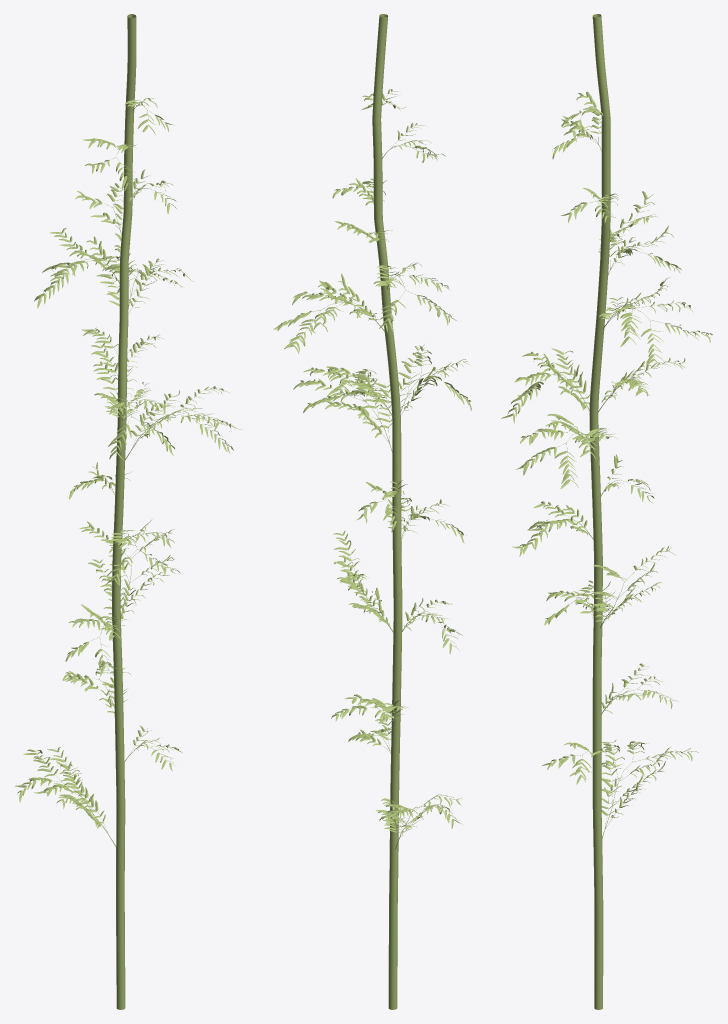
The model's file is bamboo.glb.
3 views of the same model, side by side, from view 1: azimuth 30°, elevation 25°; view 2: azimuth 150°, elevation 25°; view 3: azimuth 270°, elevation 25° (orthographic).
Parts seen in each view (by area): view 1: bamboo_002_exp_002_culm_001, bamboo_002_exp_001_leaf_002_001 (×2), bamboo_002_exp_001_leaf_001_001, bamboo_002_exp_001_branch_001; view 2: bamboo_002_exp_002_culm_001, bamboo_002_exp_001_leaf_002_001 (×2), bamboo_002_exp_001_leaf_001_001, bamboo_002_exp_001_branch_001; view 3: bamboo_002_exp_002_culm_001, bamboo_002_exp_001_leaf_002_001 (×2), bamboo_002_exp_001_leaf_001_001, bamboo_002_exp_001_branch_001.
Part boxes in pixels (x1,y1,x2,y2): bamboo_002_exp_002_culm_001: (112,14,136,1009); bamboo_002_exp_001_leaf_002_001 (×2): (21,98,242,828); bamboo_002_exp_001_leaf_001_001: (15,100,230,824); bamboo_002_exp_001_branch_001: (27,101,226,847); bamboo_002_exp_002_culm_001: (372,14,402,1009); bamboo_002_exp_001_leaf_002_001 (×2): (273,89,471,832); bamboo_002_exp_001_leaf_001_001: (277,91,470,835); bamboo_002_exp_001_branch_001: (301,93,464,849); bamboo_002_exp_002_culm_001: (589,14,610,1009); bamboo_002_exp_001_leaf_002_001 (×2): (501,93,710,817); bamboo_002_exp_001_leaf_001_001: (507,92,712,817); bamboo_002_exp_001_branch_001: (523,96,694,838).
Bounding box in the file's own units: 0.1203 × 0.5967 × 0.1155.
